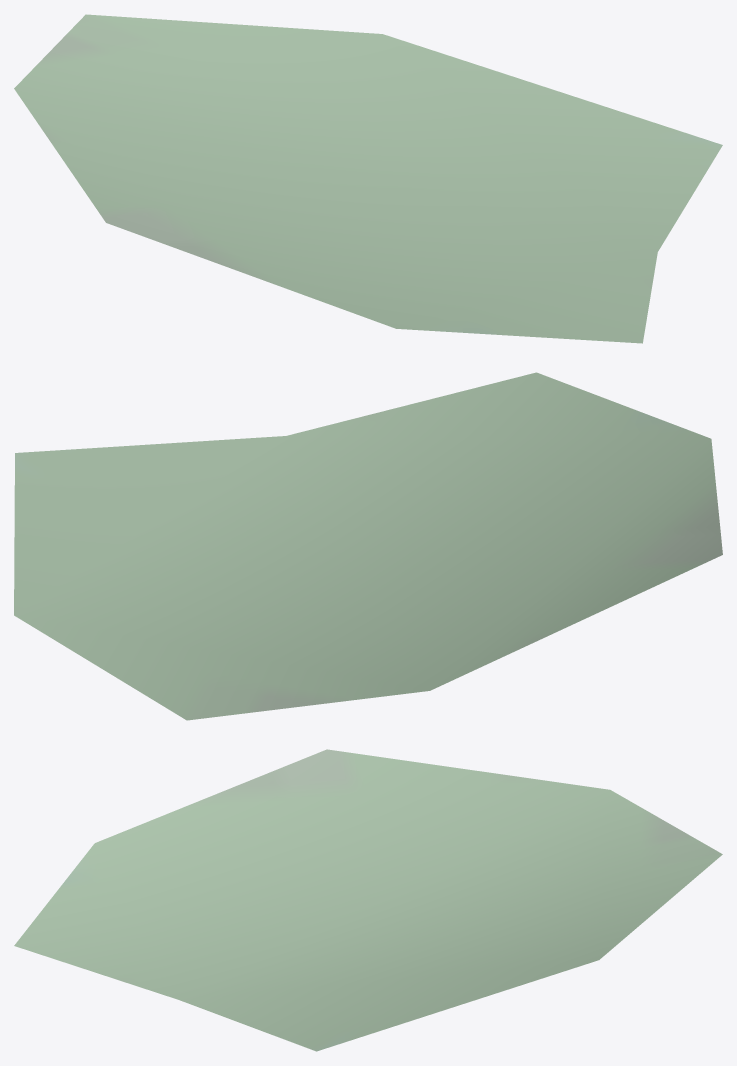
File: TROLLHOLE02_HOLECAP107.fbx
The picture shows the model from 3 angles, top to bottom: view 1: azimuth 30°, elevation 25°; view 2: azimuth 150°, elevation 25°; view 3: azimuth 270°, elevation 25°; orthographic projection. The views are drawn at different scales.
Parts seen in each view (by area): view 1: TROLLHOLE02_HOLECAP107; view 2: TROLLHOLE02_HOLECAP107; view 3: TROLLHOLE02_HOLECAP107.
Part boxes in pixels (box(x1,y1,x2,y2)): TROLLHOLE02_HOLECAP107: box(14, 14, 722, 343); TROLLHOLE02_HOLECAP107: box(14, 372, 722, 720); TROLLHOLE02_HOLECAP107: box(14, 749, 722, 1051).
Size of the model in its own units: 18084 by 2171 by 21942.
Materials: 1 (1 with a texture image).
